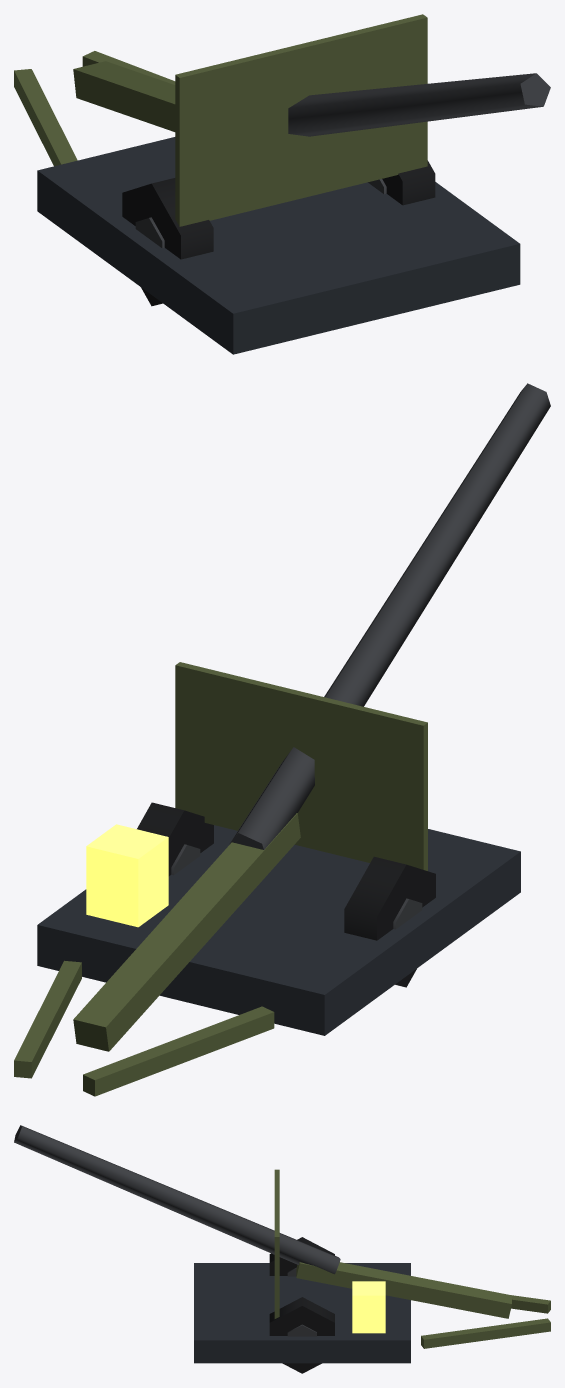
The model's file is unit_mil_gun_a08_lod1.glb.
3 views of the same model, one above another, from view 1: azimuth 30°, elevation 25°; view 2: azimuth 150°, elevation 25°; view 3: azimuth 270°, elevation 25° (orthographic). The views are drawn at different scales.
Visible parts, largest first — view 1: body, barrel, wheel_0, wheel_1; view 2: body, barrel, wheel_0, wheel_1; view 3: body, barrel, wheel_1, wheel_0.
Part boxes in pixels (x1,y1,x2,y2): body: (14, 14, 520, 354); barrel: (288, 73, 550, 136); wheel_0: (122, 178, 213, 306); wheel_1: (368, 160, 435, 205); body: (14, 662, 520, 1096); barrel: (229, 383, 550, 849); wheel_0: (344, 856, 435, 987); wheel_1: (137, 802, 213, 876); body: (194, 1169, 550, 1363); barrel: (14, 1125, 340, 1274); wheel_1: (269, 1297, 334, 1373); wheel_0: (269, 1237, 334, 1276).
Bounding box in the file's own units: 2.2 × 2.83 × 6.43.
